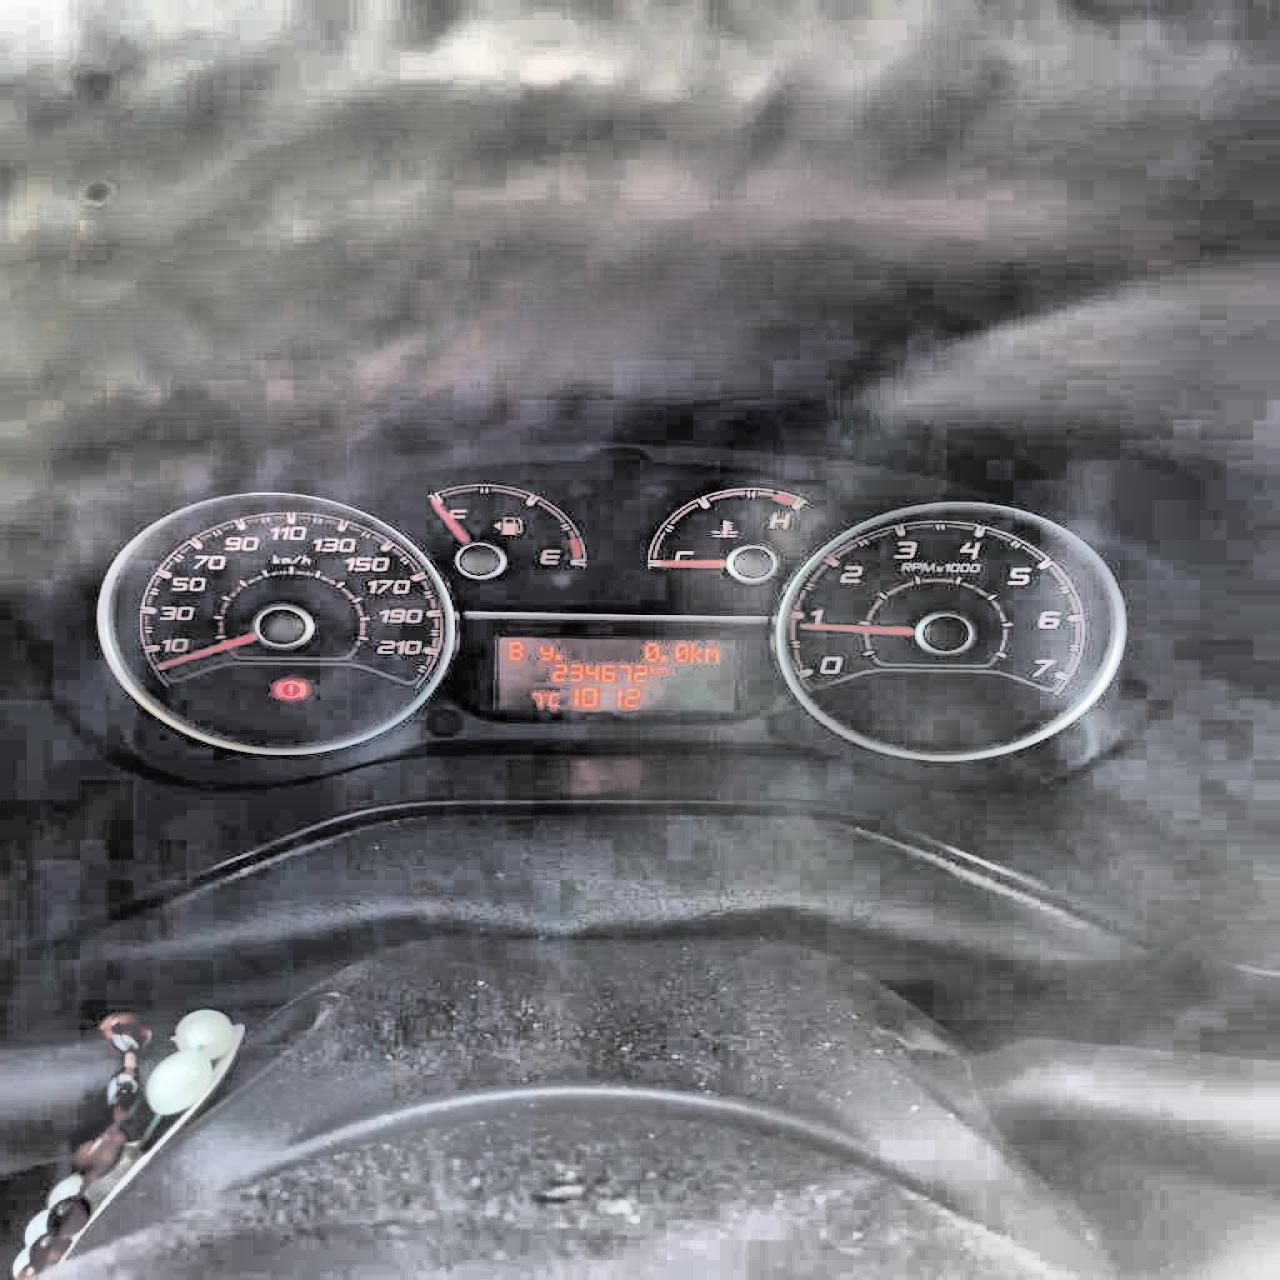-: (659, 653, 667, 662), (553, 651, 561, 660)
0: (578, 685, 597, 707), (641, 640, 659, 661), (674, 641, 688, 662)
1: (613, 687, 621, 708), (572, 686, 578, 706)
2: (621, 687, 639, 708), (550, 662, 565, 682), (632, 662, 647, 682)
3: (568, 662, 584, 680)
4: (584, 662, 599, 680)
6: (600, 663, 615, 681)
7: (617, 662, 632, 681), (531, 692, 542, 707)
X: (506, 640, 523, 660), (688, 641, 702, 661), (546, 688, 558, 708), (703, 647, 719, 662), (538, 644, 552, 660), (655, 666, 667, 673), (648, 662, 655, 673)
odometer: (492, 633, 741, 714)
